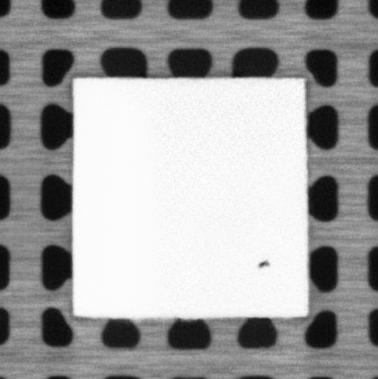DIE_INK: (255, 259, 271, 269)
